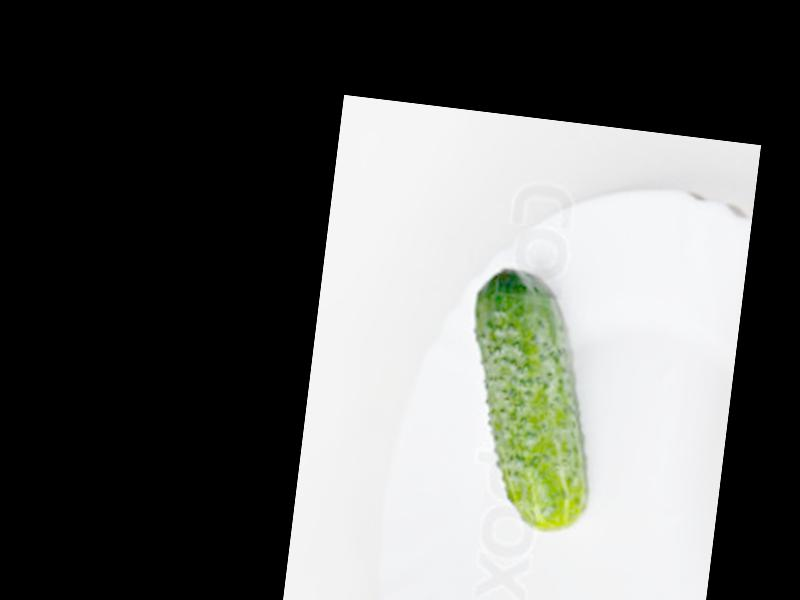Cucumber: (449, 268, 614, 534)
